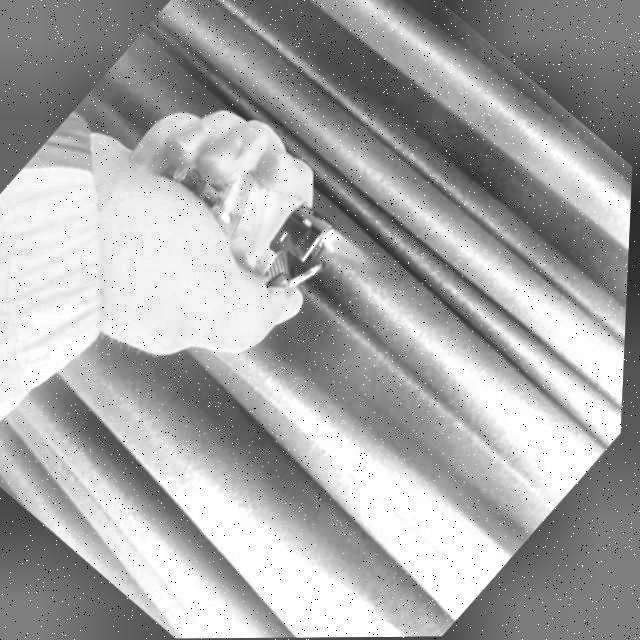Fire: (318, 221, 384, 282)
